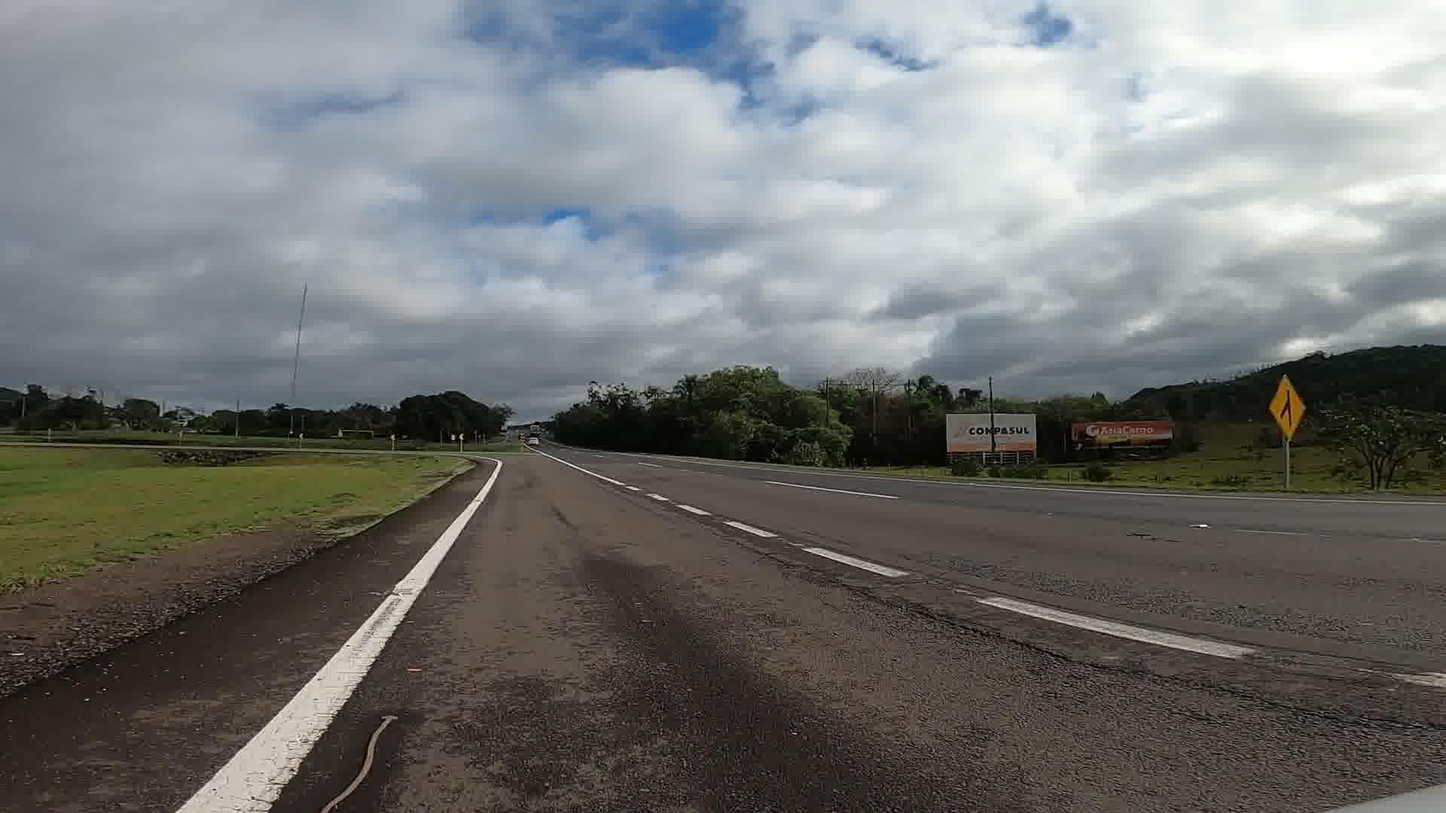A-13a: (1268, 378, 1307, 441)
